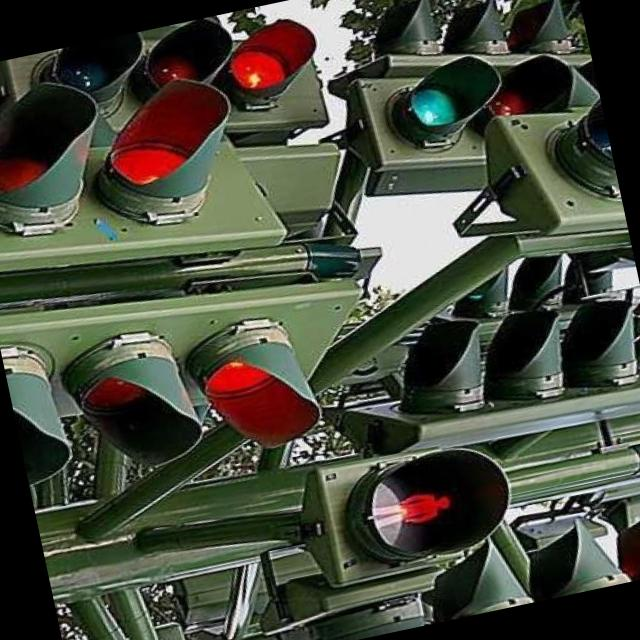green-lights: (362, 46, 511, 176)
red-lights: (72, 72, 250, 245), (336, 440, 526, 578), (192, 308, 331, 456), (209, 0, 350, 133)
